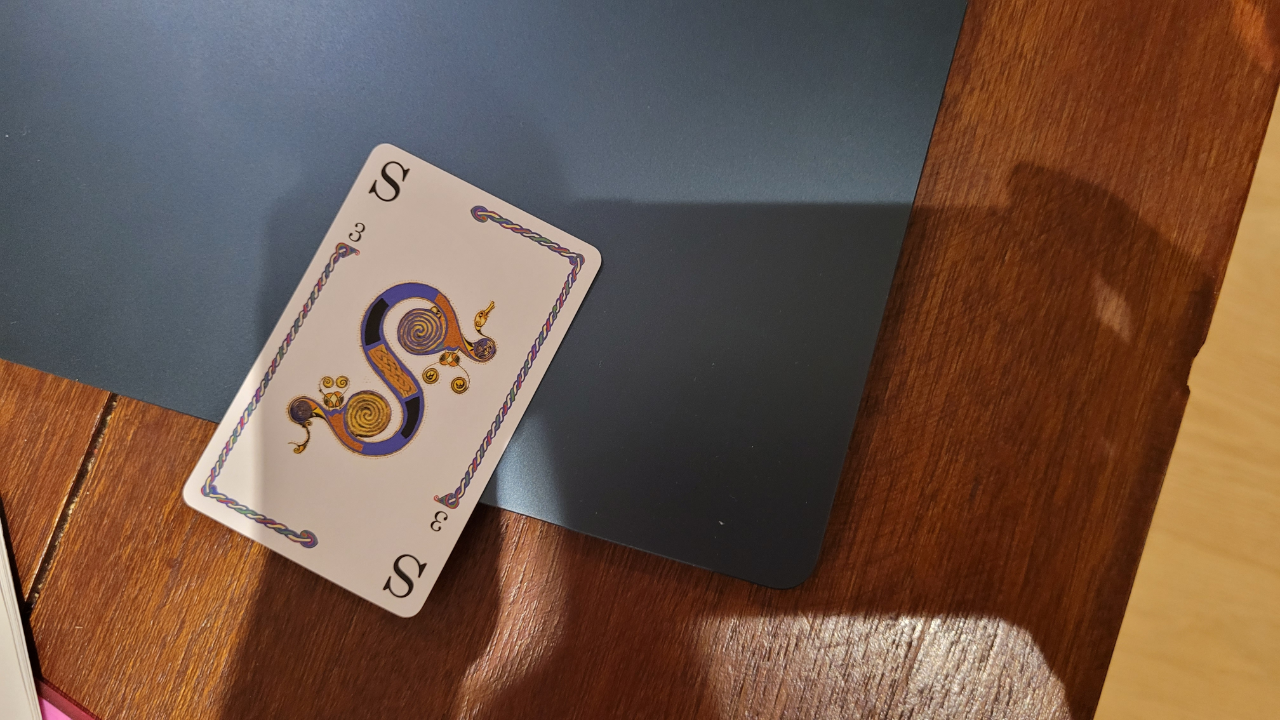quiddler_card: (173, 133, 615, 646)
